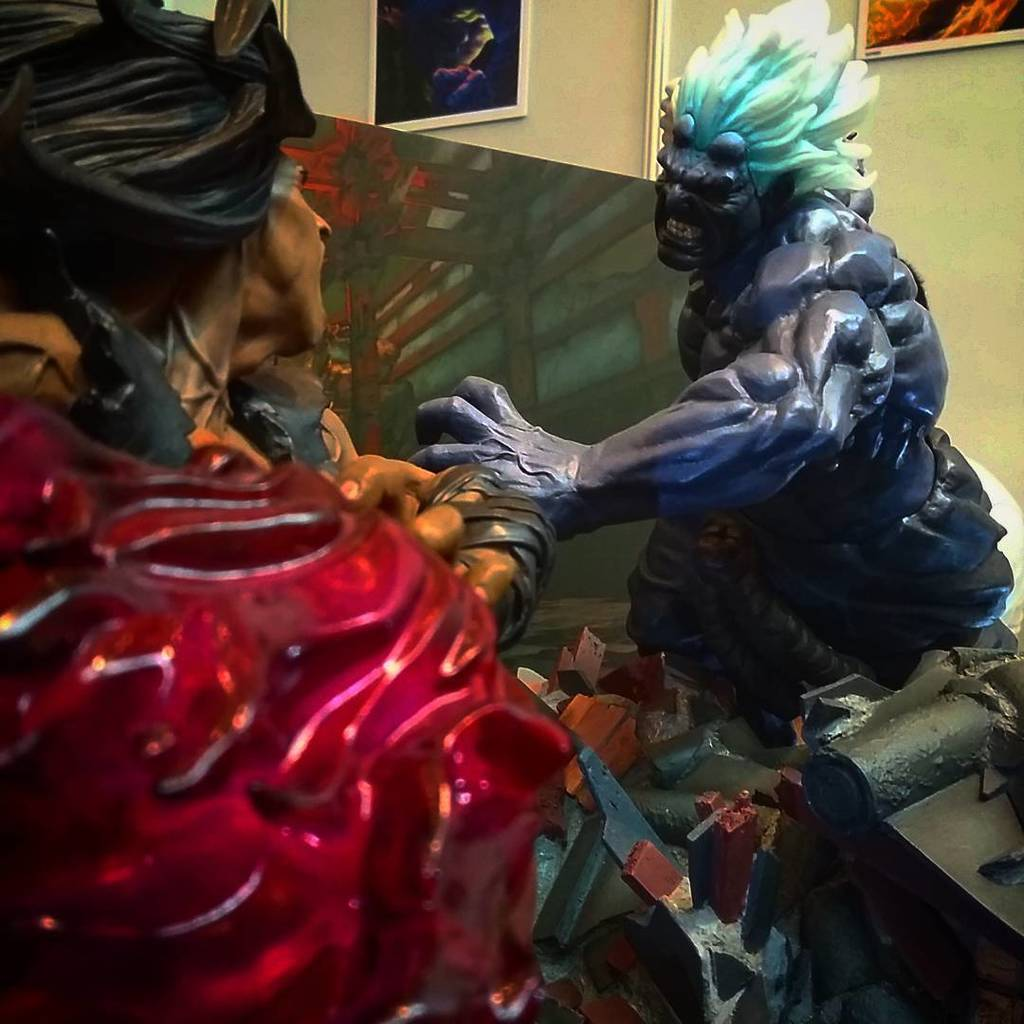Person: (0, 0, 559, 1020), (405, 0, 1014, 742)
